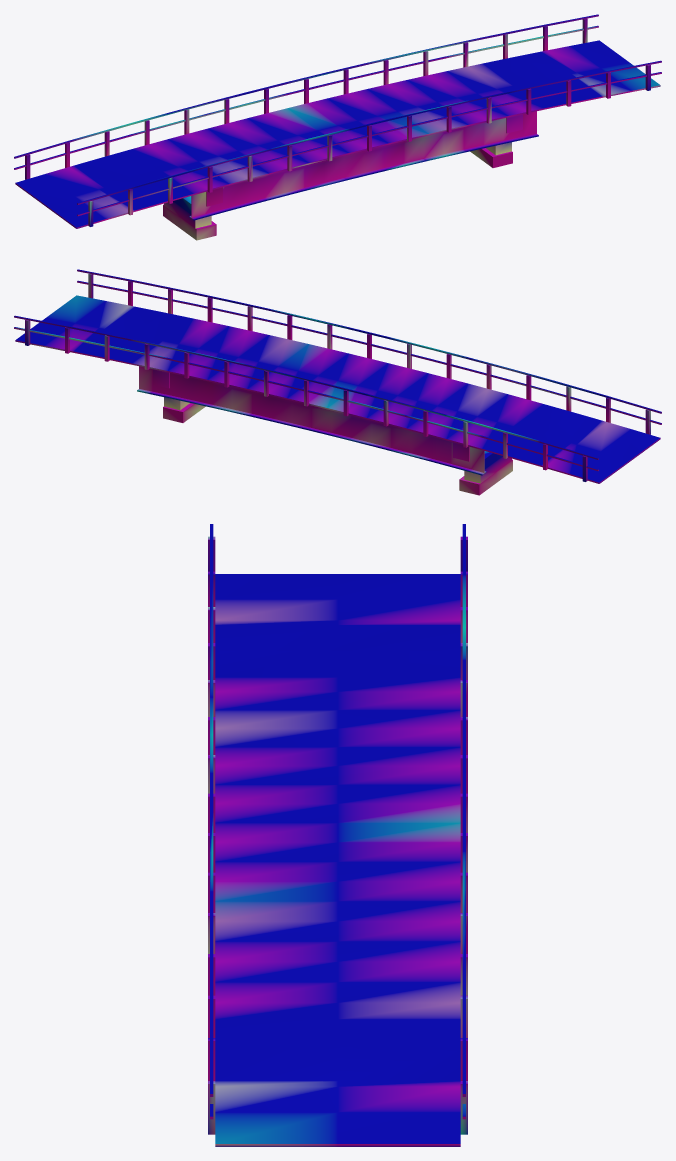
Rendered from bridge_steel.glb.
3 renders of one model, top to bottom at view 1: azimuth 30°, elevation 25°; view 2: azimuth 150°, elevation 25°; view 3: azimuth 270°, elevation 25°, orthographic. The views are drawn at different scales.
Visible parts, largest first — view 1: bridge_steel; view 2: bridge_steel; view 3: bridge_steel.
Boxes of the visible parts, x1=… form: bridge_steel: x1=14, y1=14, x2=661, y2=240; bridge_steel: x1=14, y1=269, x2=661, y2=495; bridge_steel: x1=208, y1=524, x2=467, y2=1146.
Bounding box in the file's own units: 22 × 3.2 × 4.24.
